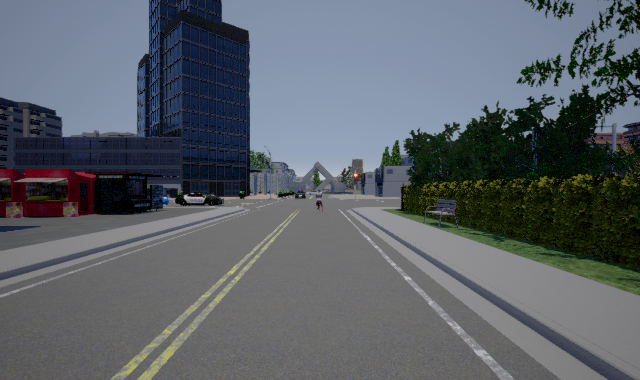bike: (313, 190, 328, 215)
traffic_light: (354, 171, 357, 186)
vehicle: (175, 192, 224, 206), (293, 189, 307, 201)
